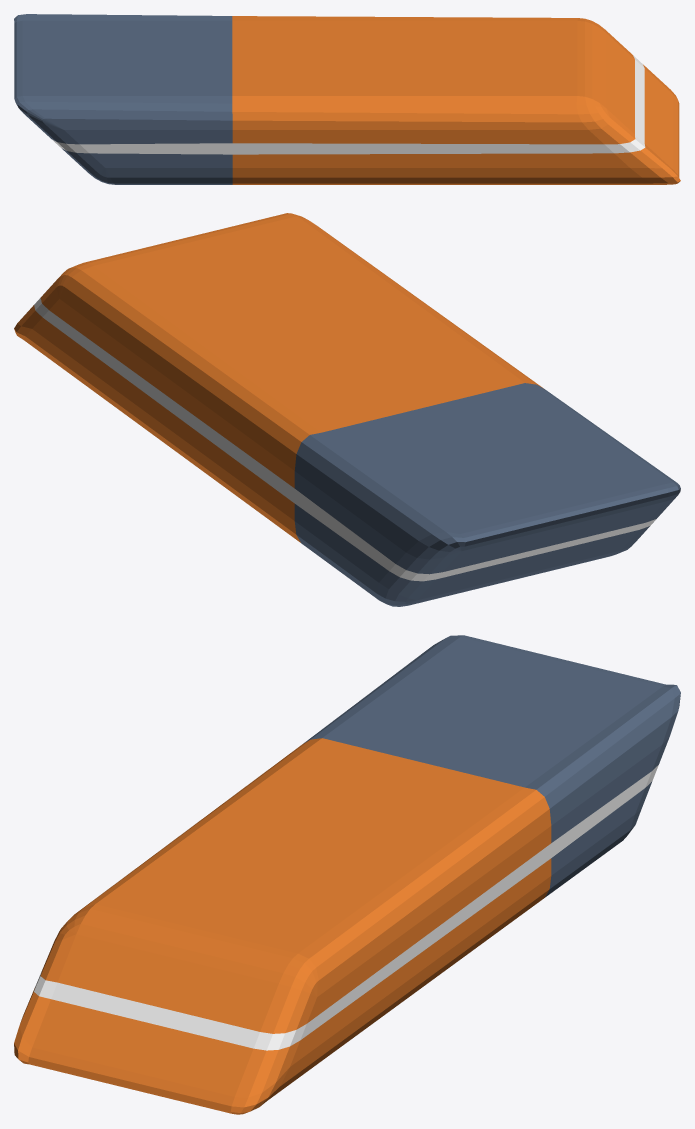
The model's file is 48c31b5e-caa2-4548-a2a6-828c47256db6.glb.
3 views of the same model, one above another, from view 1: azimuth 30°, elevation 25°; view 2: azimuth 150°, elevation 25°; view 3: azimuth 270°, elevation 25° (orthographic). The views are drawn at different scales.
Parts seen in each view (by area): view 1: Box001; view 2: Box001; view 3: Box001.
Part boxes in pixels (box(x1,y1,x2,y2)): Box001: box(14, 14, 680, 184); Box001: box(14, 213, 680, 606); Box001: box(14, 635, 680, 1114).
Bounding box in the file's own units: 397433 × 57989 × 300878.
